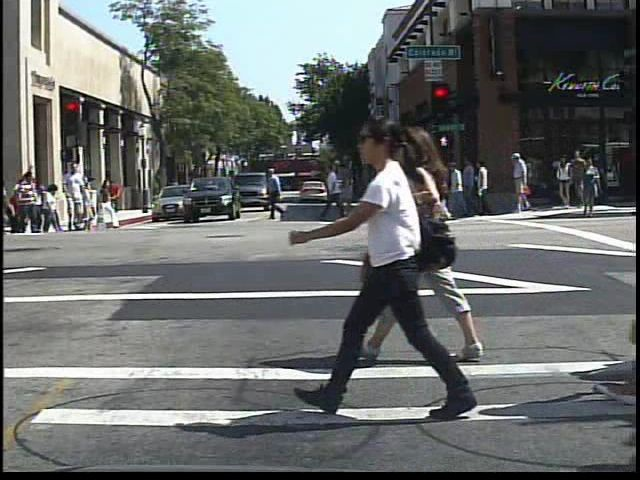person: (296, 109, 462, 422), (388, 119, 489, 363), (59, 161, 90, 233), (14, 166, 39, 236), (510, 146, 532, 213), (166, 173, 184, 205), (109, 179, 125, 211)
